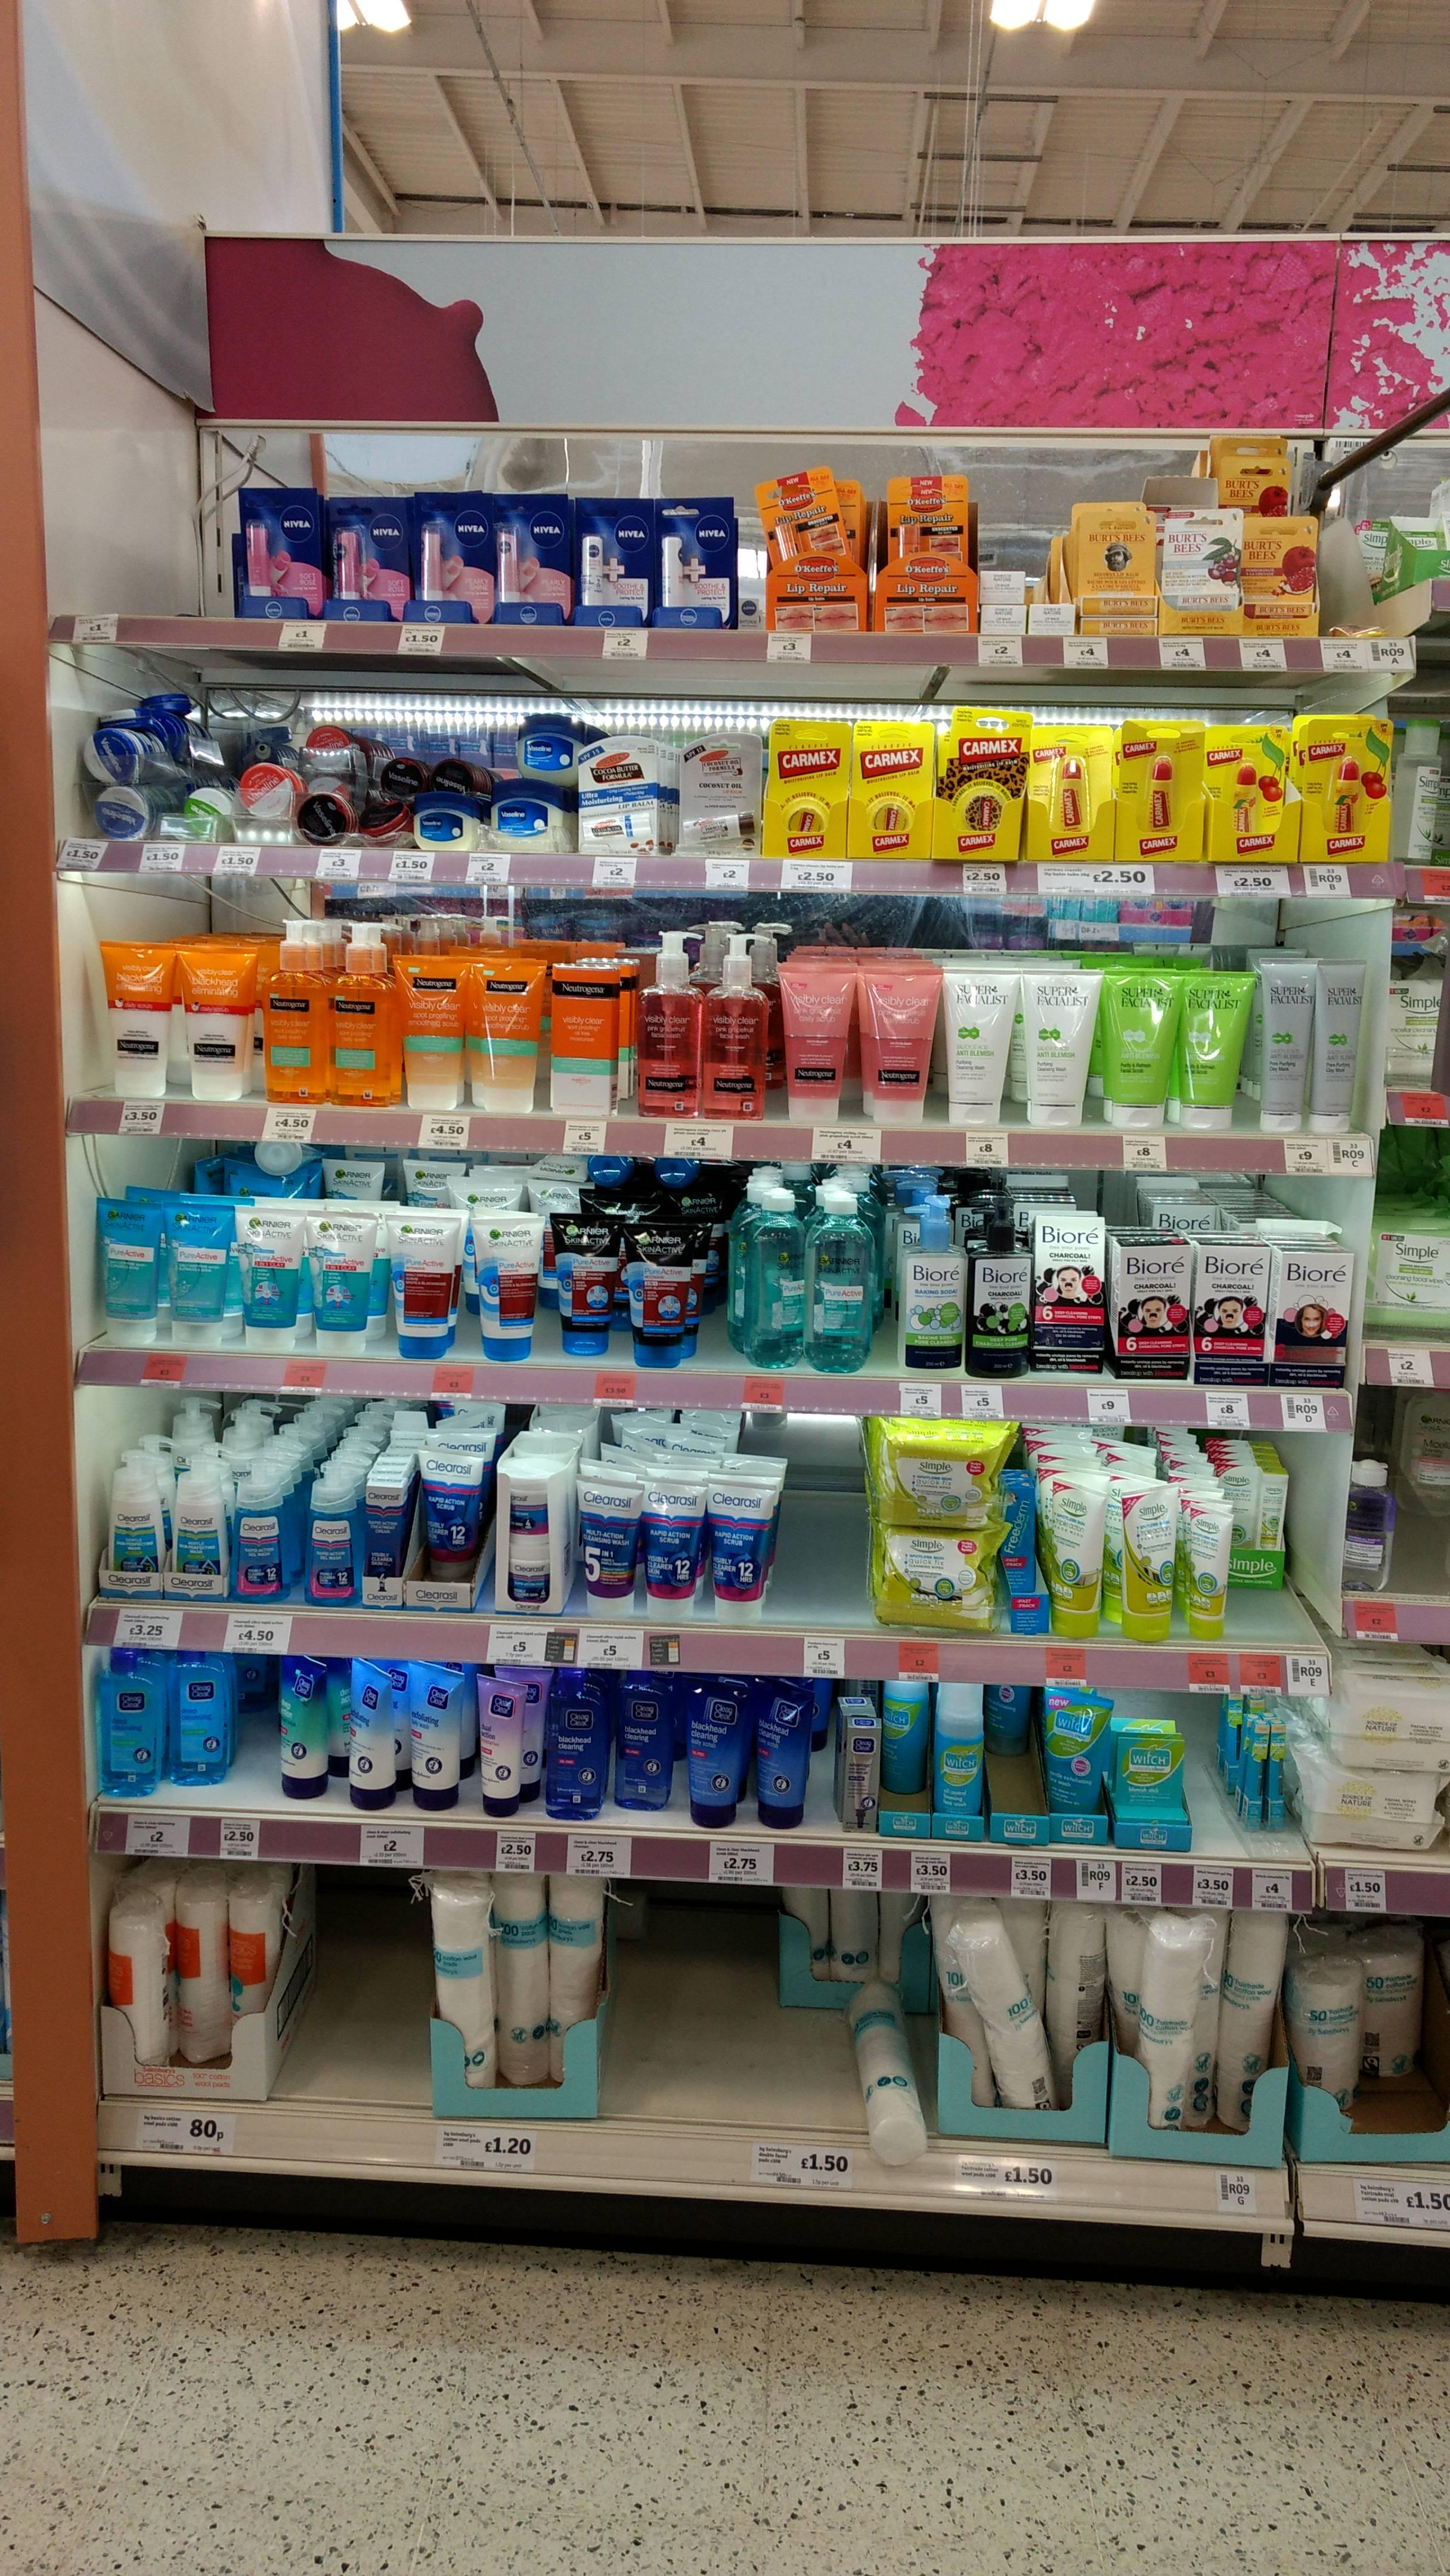misalignment: (840, 1982, 921, 2164), (269, 1656, 334, 1796), (884, 1679, 930, 1792), (251, 1129, 329, 1173)
